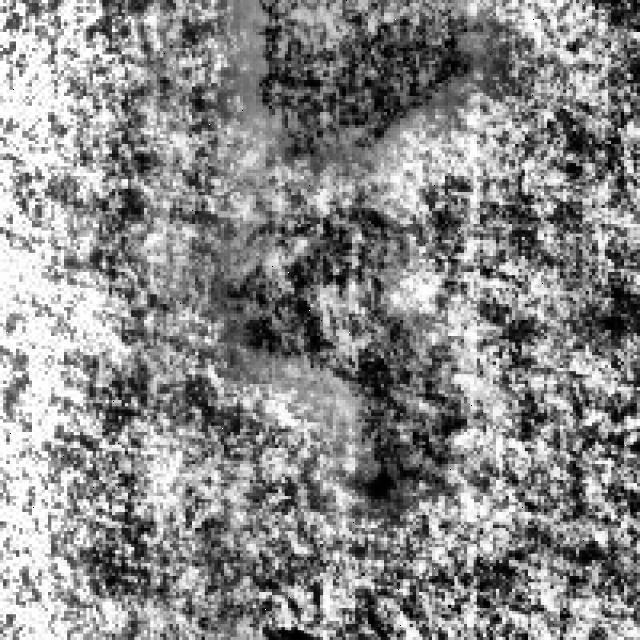Scratches: (253, 195, 448, 480), (246, 0, 479, 163)
